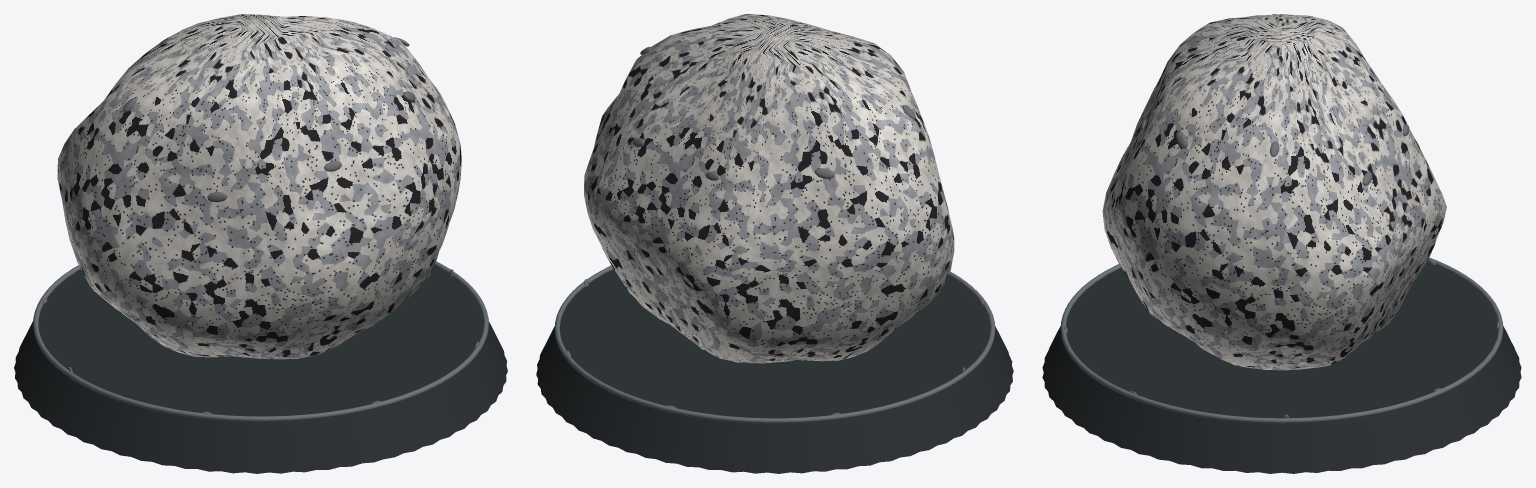
3 renders of one model, left to right at view 1: azimuth 30°, elevation 25°; view 2: azimuth 150°, elevation 25°; view 3: azimuth 270°, elevation 25°, orthographic. The views are drawn at different scales.
Visible parts, largest first — view 1: surface specimen, neutral specimen stand, specimen edge, turned rim; view 2: surface specimen, neutral specimen stand, specimen edge, turned rim; view 3: surface specimen, neutral specimen stand, specimen edge, turned rim.
Boxes of the visible parts, x1=… form: surface specimen: x1=57, y1=14, x2=461, y2=359; neutral specimen stand: x1=14, y1=265, x2=507, y2=473; specimen edge: x1=33, y1=261, x2=488, y2=421; turned rim: x1=123, y1=37, x2=415, y2=202; surface specimen: x1=584, y1=14, x2=954, y2=363; neutral specimen stand: x1=536, y1=269, x2=1013, y2=473; specimen edge: x1=554, y1=265, x2=995, y2=423; turned rim: x1=632, y1=46, x2=915, y2=180; surface specimen: x1=1102, y1=14, x2=1446, y2=370; neutral specimen stand: x1=1042, y1=261, x2=1521, y2=473; specimen edge: x1=1060, y1=257, x2=1503, y2=423; turned rim: x1=1140, y1=14, x2=1409, y2=185.
Bounding box in the file's own units: 0.539 × 0.4199 × 0.539.
Materials: 4 (1 with a texture image).
